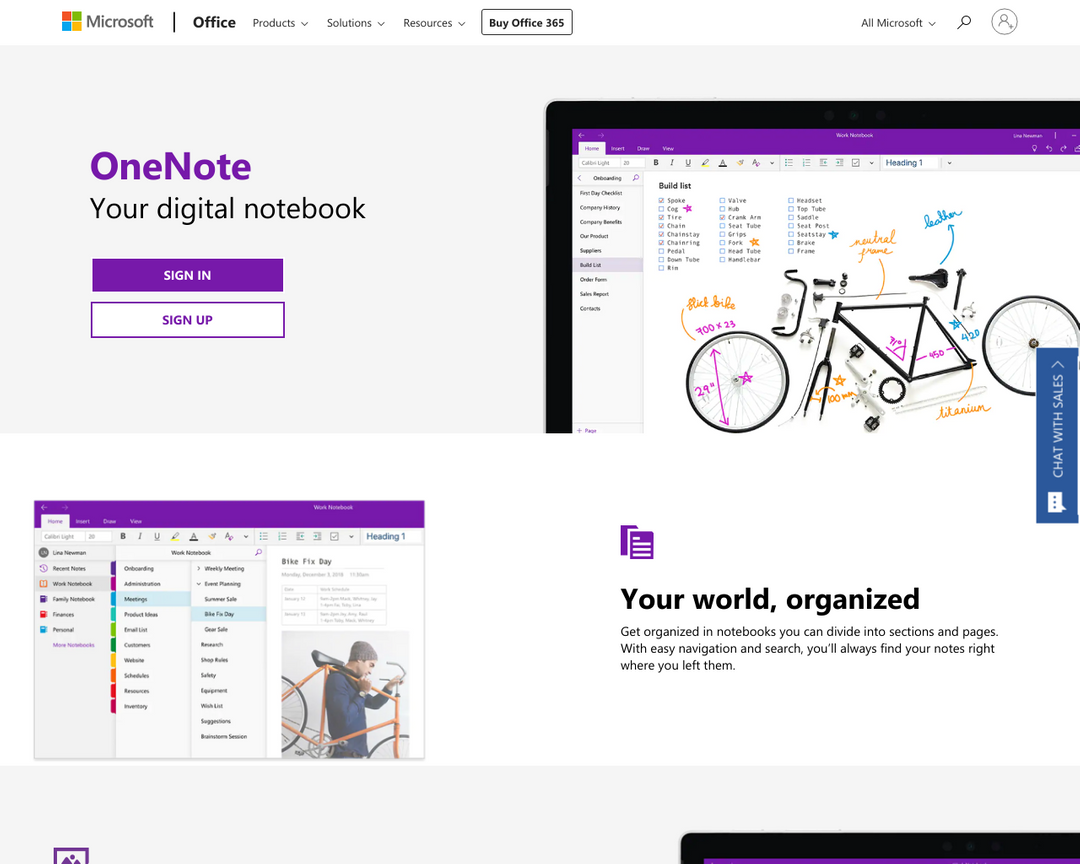Microsoft: (56, 8, 84, 44)
